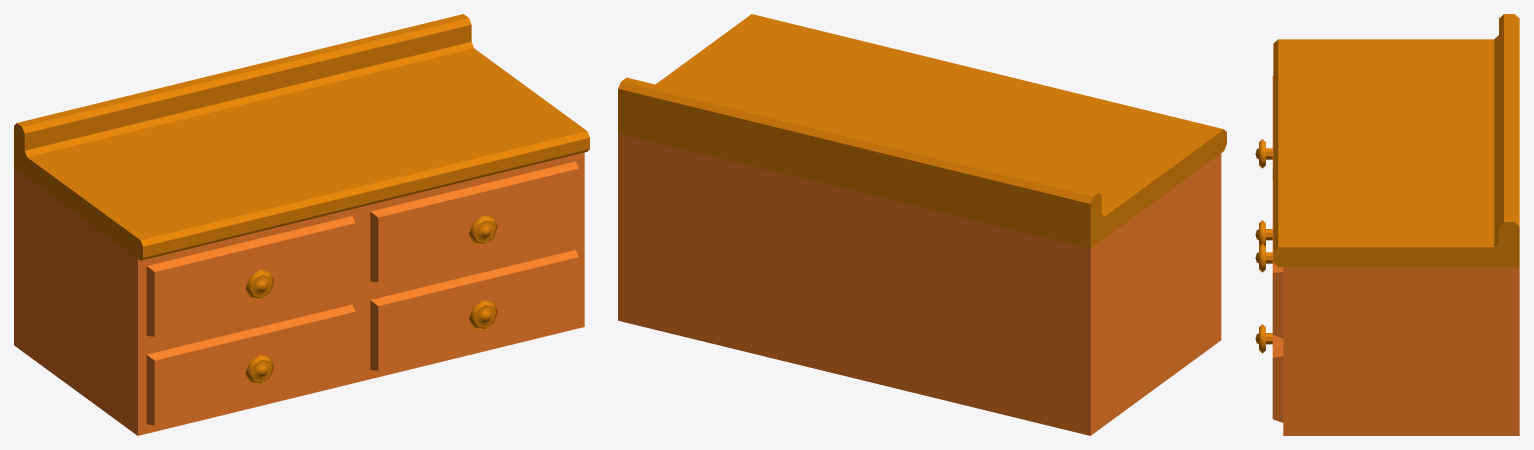
Rendered from Countertop-02.FBX.
3 renders of one model, left to right at view 1: azimuth 30°, elevation 25°; view 2: azimuth 150°, elevation 25°; view 3: azimuth 270°, elevation 25°, orthographic. The views are drawn at different scales.
Visible parts, largest first — view 1: base001, top001, knob-003, knob-005, knob-006, knob-004; view 2: base001, top001; view 3: top001, base001, knob-003, knob-004, knob-005, knob-006.
Part boxes in pixels (x1,y1,x2,y2): base001: (14, 152, 584, 435); top001: (14, 14, 589, 260); knob-003: (469, 215, 497, 245); knob-005: (469, 300, 497, 329); knob-006: (245, 355, 273, 384); knob-004: (245, 270, 273, 299); base001: (618, 133, 1221, 435); top001: (618, 14, 1226, 248); top001: (1273, 14, 1519, 266); base001: (1272, 76, 1519, 435); knob-003: (1255, 243, 1272, 272); knob-004: (1255, 139, 1272, 168); knob-005: (1255, 324, 1272, 353); knob-006: (1255, 220, 1272, 246).
Bounding box in the file's own units: 100 × 47.92 × 53.63.
